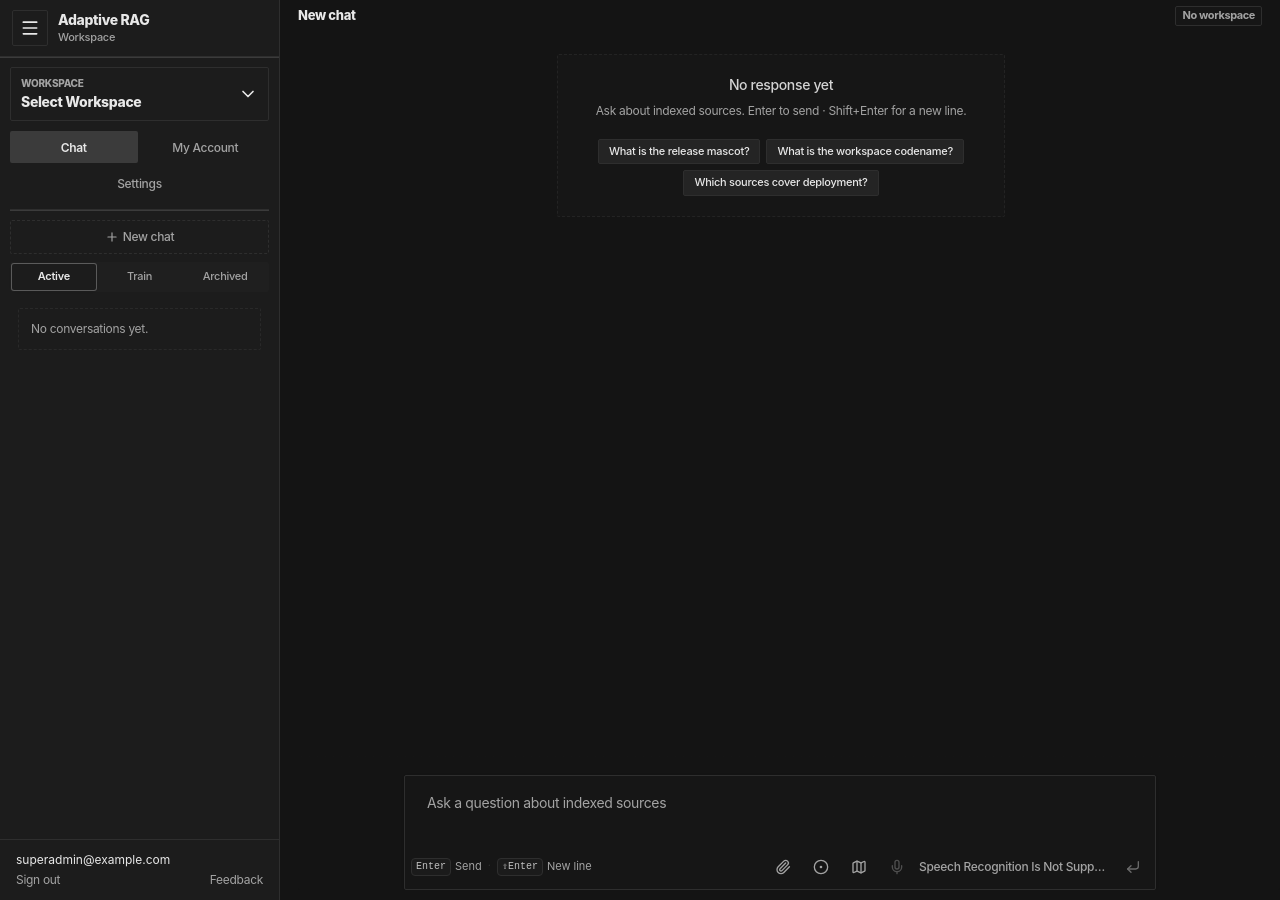
Scenario: App chat workspace › moves workspace selection into the sidebar above primary navigation
Click the button with aria-label "Workspace selector" at point(140, 94), box [10, 67, 269, 121]
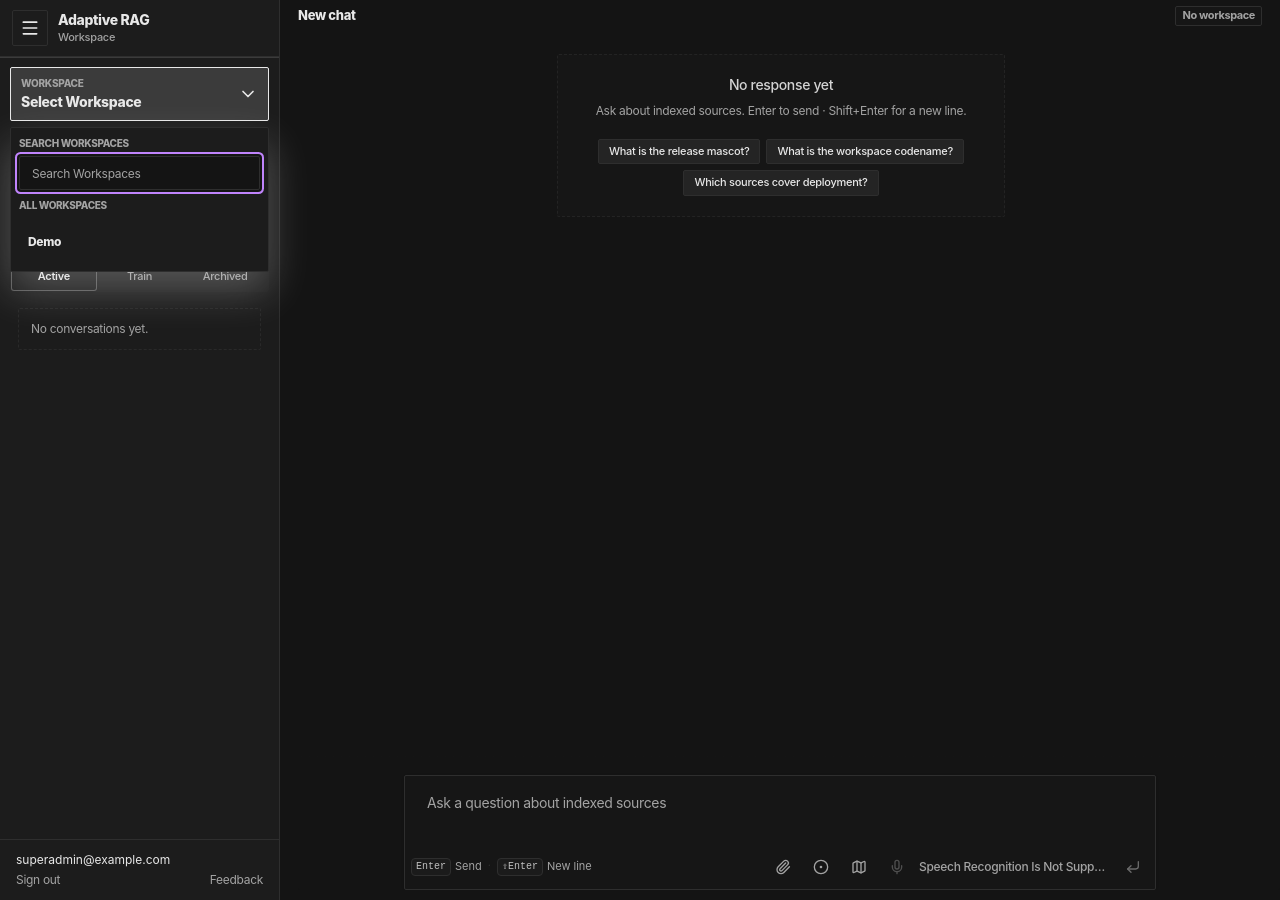
Click the option with aria-label "Select Workspace Demo" at point(140, 242), box [19, 221, 260, 263]
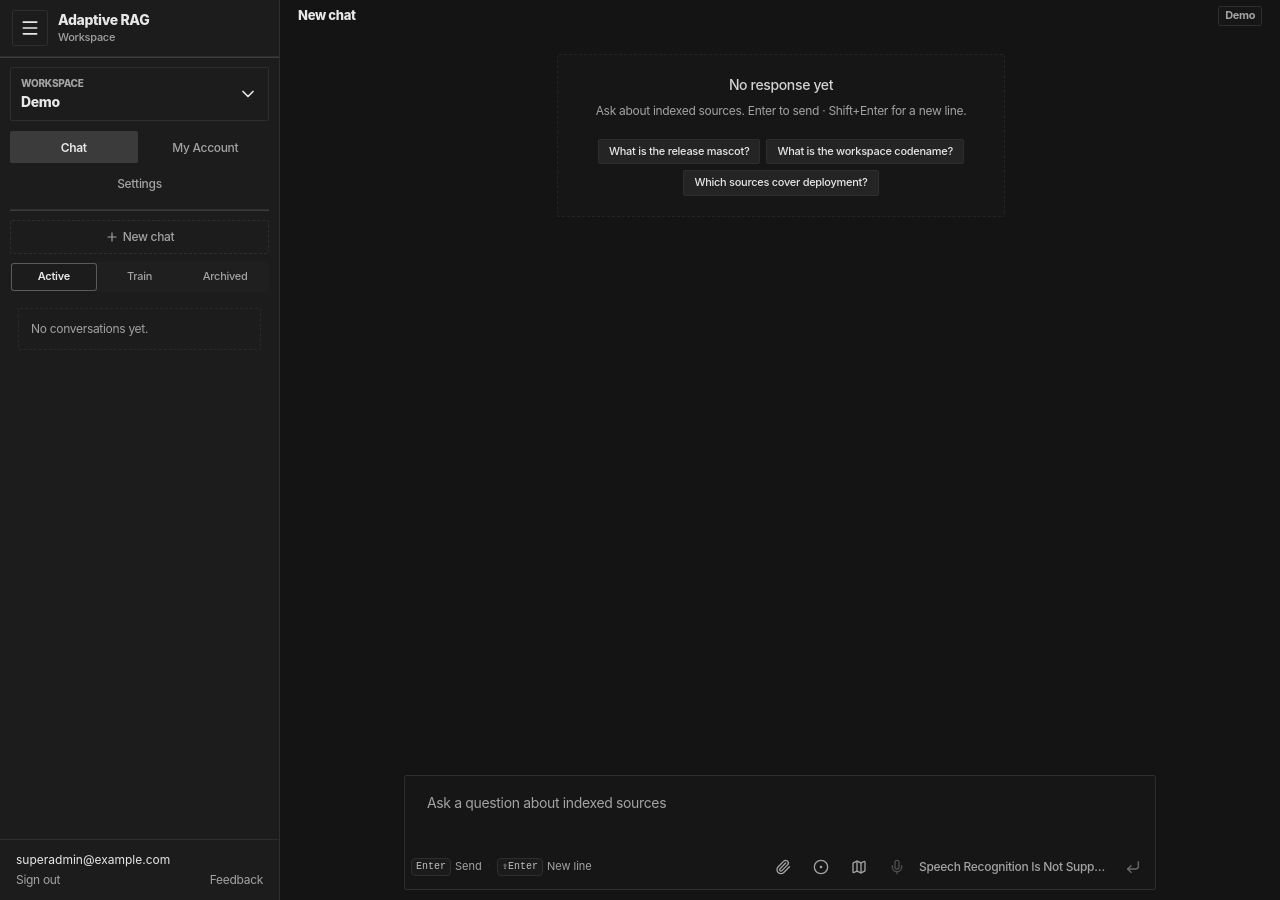
Check: the button with aria-label "Workspace selector: Demo" is shown, box [10, 67, 269, 121]
